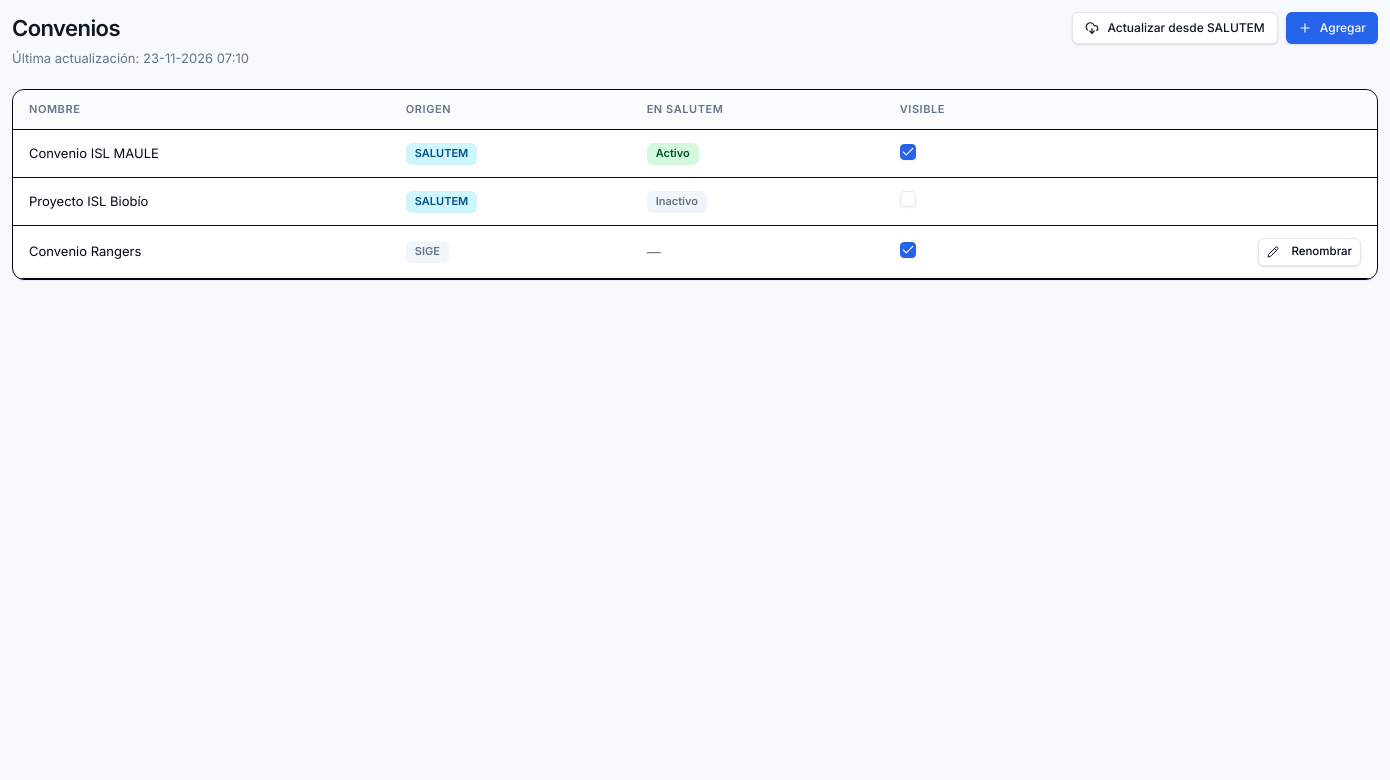
Test: ConveniosPage › si SALUTEM falla muestra el mensaje del 502
The width and height of the screenshot is (1390, 780).
Click the button with test id "btn-actualizar-salutem" at (1175, 28), box [1072,12,1278,44]
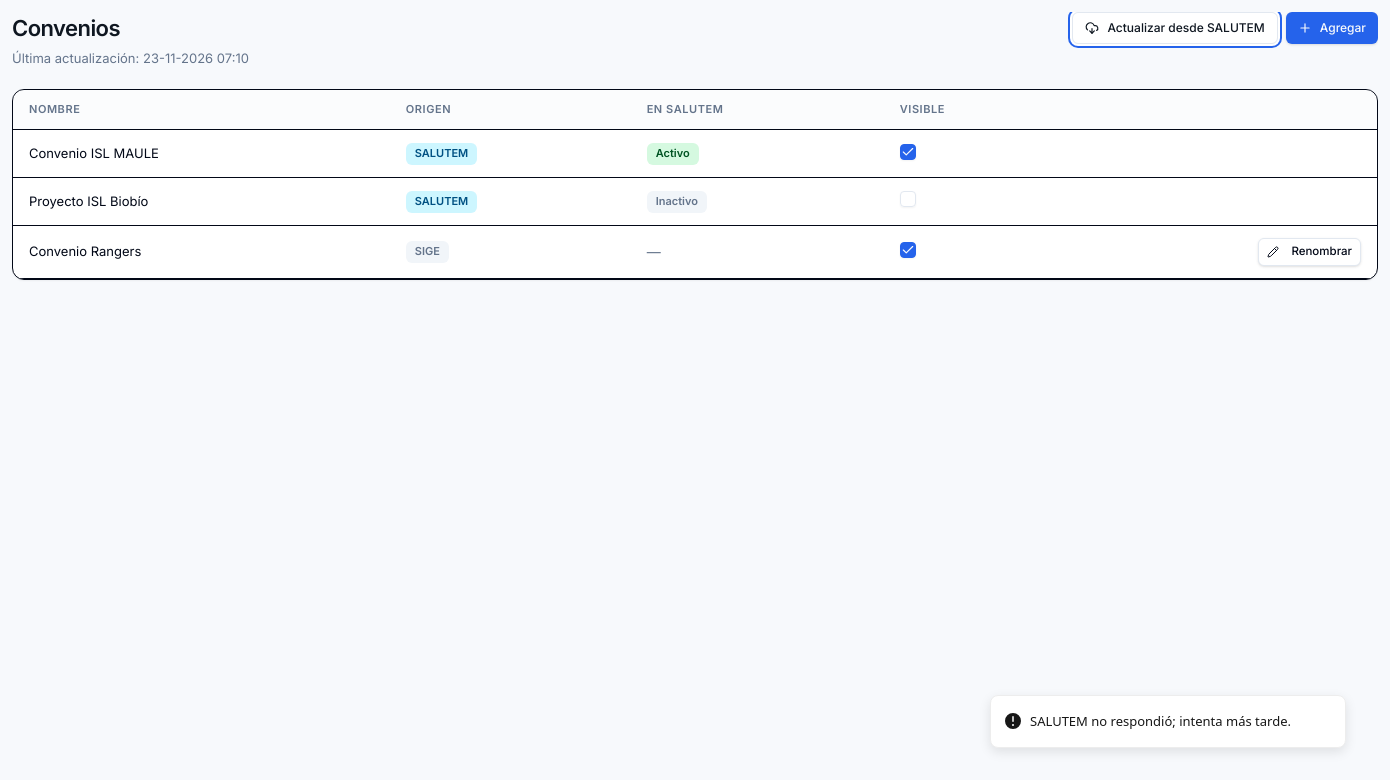
expect the text "SALUTEM no respondió; intenta más tarde." is shown: met, box [1030,712,1291,731]
